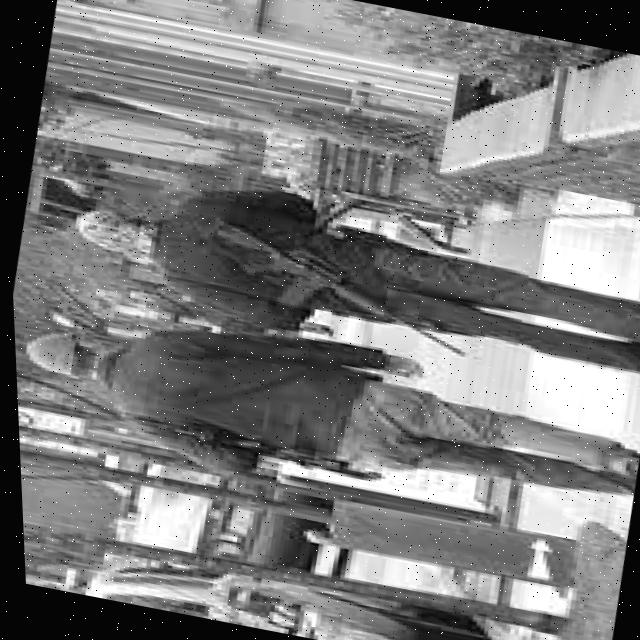firearm: (191, 219, 477, 356)
